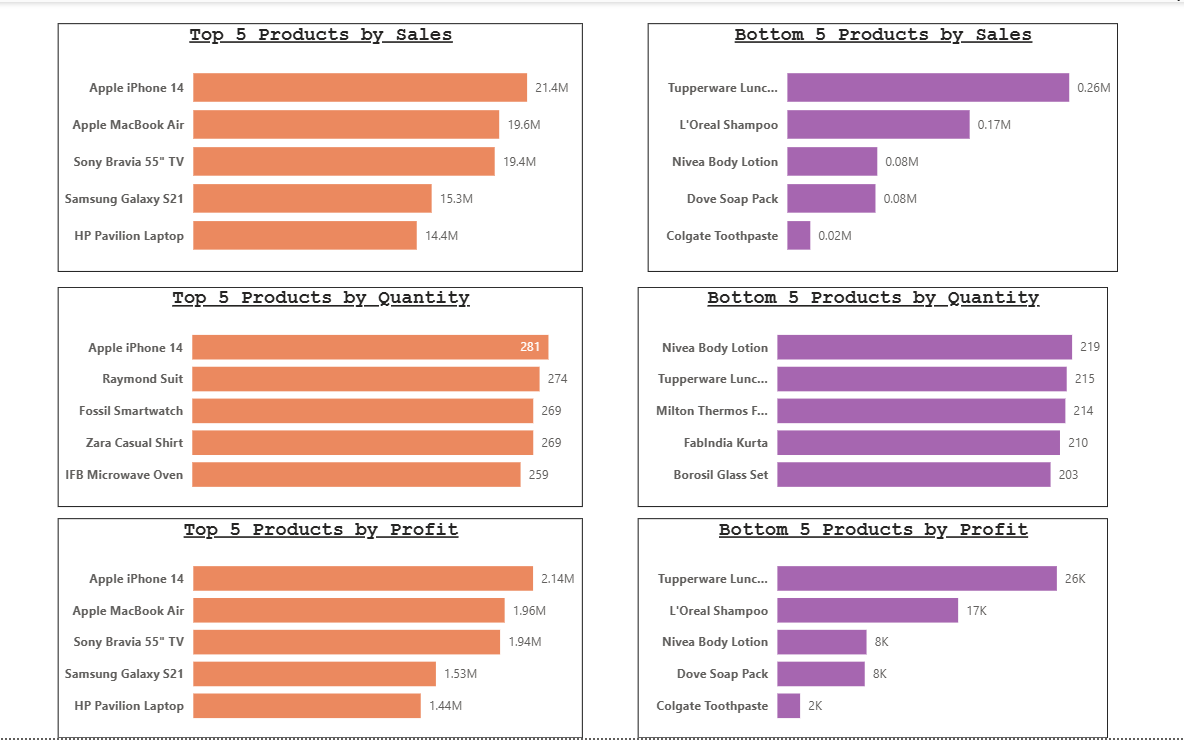

The page's visual inventory and layout, read from the dashboard file:
{"tool":"powerbi","page":{"name":"Top/Bottom 5 Analysis","canvas":[1280,720],"ordinal":1},"visuals":[{"type":"barChart","title":"Top 5 Products by Sales","fields":{"Category":["Dim Product.Product Name"],"Y":["Sum(Fact Table.Net Sales)"]},"box":[72.1,20.8,513.6,243.3],"z":0},{"type":"barChart","title":"Bottom 5 Products by Sales","fields":{"Category":["Dim Product.Product Name"],"Y":["Sum(Fact Table.Net Sales)"]},"box":[649.3,20.8,459.8,243.3],"z":1000},{"type":"barChart","title":"Top 5 Products by Quantity","fields":{"Category":["Dim Product.Product Name"],"Y":["Sum(Fact Table.Units Sold)"]},"box":[72.1,278.8,513.6,215.2],"z":2000},{"type":"barChart","title":"Bottom 5 Products by Quantity","fields":{"Category":["Dim Product.Product Name"],"Y":["Sum(Fact Table.Units Sold)"]},"box":[639.5,278.8,459.8,215.2],"z":3000},{"type":"barChart","title":"Top 5 Products by Profit","fields":{"Category":["Dim Product.Product Name"],"Y":["Sum(Fact Table.Profit)"]},"box":[72.1,505,513.6,215.2],"z":4000},{"type":"barChart","title":"Bottom 5 Products by Profit","fields":{"Category":["Dim Product.Product Name"],"Y":["Sum(Fact Table.Profit)"]},"box":[639.5,505,459.8,215.2],"z":5000}]}

Visuals, with their boxes on the page's 1280x720 design canvas (x1, y1, x2, y2). These are canvas units, not pixel positions in the 1184x747 screenshot, which may show the page scaled, cropped or inside an application window:
"Top 5 Products by Sales" barChart: (x1=72, y1=21, x2=586, y2=264)
"Bottom 5 Products by Sales" barChart: (x1=649, y1=21, x2=1109, y2=264)
"Top 5 Products by Quantity" barChart: (x1=72, y1=279, x2=586, y2=494)
"Bottom 5 Products by Quantity" barChart: (x1=640, y1=279, x2=1099, y2=494)
"Top 5 Products by Profit" barChart: (x1=72, y1=505, x2=586, y2=720)
"Bottom 5 Products by Profit" barChart: (x1=640, y1=505, x2=1099, y2=720)
